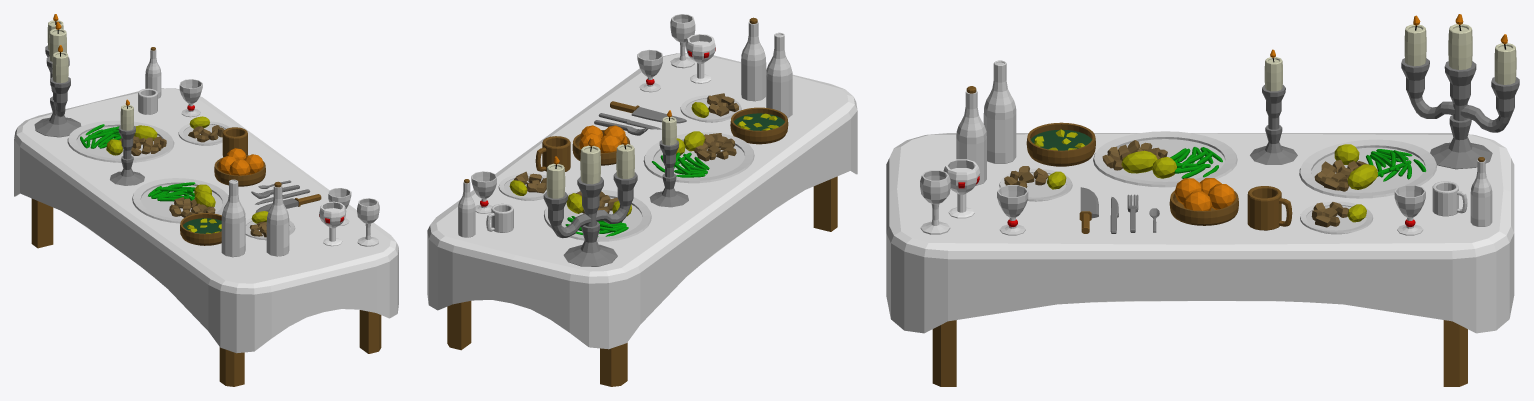
File: Clothed_Table-2.fbx
3 renders of one model, left to right at view 1: azimuth 30°, elevation 25°; view 2: azimuth 150°, elevation 25°; view 3: azimuth 270°, elevation 25°, orthographic. The views are drawn at different scales.
Parts seen in each view (by area): view 1: Plane, Cube.015, Circle.004, Circle.000, Circle.006, Cylinder.001, Cylinder, Circle.005, Sphere.000, Circle, Circle.001, Cube.018 (+12 smaller); view 2: Plane, Circle.004, Cube.015, Circle.000, Sphere.000, Cylinder.001, Cylinder, Circle.005, Circle.006, Circle, Cylinder.010, Circle.001 (+13 smaller); view 3: Plane, Circle.004, Circle.000, Circle.006, Cube.015, Cylinder.001, Sphere.000, Circle.005, Cylinder, Cylinder.010, Circle, Circle.001 (+17 smaller).
Boxes of the visible parts, bbox=[...] form: Plane: bbox=[14, 88, 398, 353]; Cube.015: bbox=[31, 198, 381, 386]; Circle.004: bbox=[34, 14, 81, 137]; Circle.000: bbox=[132, 178, 228, 223]; Circle.006: bbox=[67, 120, 174, 162]; Cylinder.001: bbox=[221, 179, 245, 257]; Cylinder: bbox=[266, 181, 289, 256]; Circle.005: bbox=[110, 99, 144, 185]; Sphere.000: bbox=[180, 213, 221, 245]; Circle: bbox=[319, 201, 346, 246]; Circle.001: bbox=[357, 198, 379, 246]; Cube.018: bbox=[148, 182, 195, 201]; Plane: bbox=[427, 53, 857, 349]; Circle.004: bbox=[543, 137, 637, 266]; Cube.015: bbox=[447, 176, 837, 386]; Circle.000: bbox=[643, 132, 754, 183]; Sphere.000: bbox=[730, 107, 788, 144]; Cylinder.001: bbox=[766, 32, 792, 117]; Cylinder: bbox=[741, 17, 766, 101]; Circle.005: bbox=[649, 110, 688, 207]; Circle.006: bbox=[544, 190, 651, 241]; Circle: bbox=[685, 34, 715, 83]; Cylinder.010: bbox=[535, 136, 570, 171]; Circle.001: bbox=[670, 14, 695, 68]; Plane: bbox=[886, 133, 1514, 333]; Circle.004: bbox=[1401, 14, 1519, 169]; Circle.000: bbox=[1093, 131, 1237, 187]; Circle.006: bbox=[1299, 139, 1436, 198]; Cube.015: bbox=[932, 320, 1467, 386]; Cylinder.001: bbox=[983, 60, 1016, 163]; Sphere.000: bbox=[1026, 122, 1095, 166]; Circle.005: bbox=[1250, 49, 1297, 164]; Cylinder: bbox=[956, 86, 986, 185]; Cylinder.010: bbox=[1247, 186, 1292, 230]; Circle: bbox=[943, 159, 980, 218]; Circle.001: bbox=[920, 170, 950, 234].
Bounding box in the file's own units: 281 × 313 × 624.
